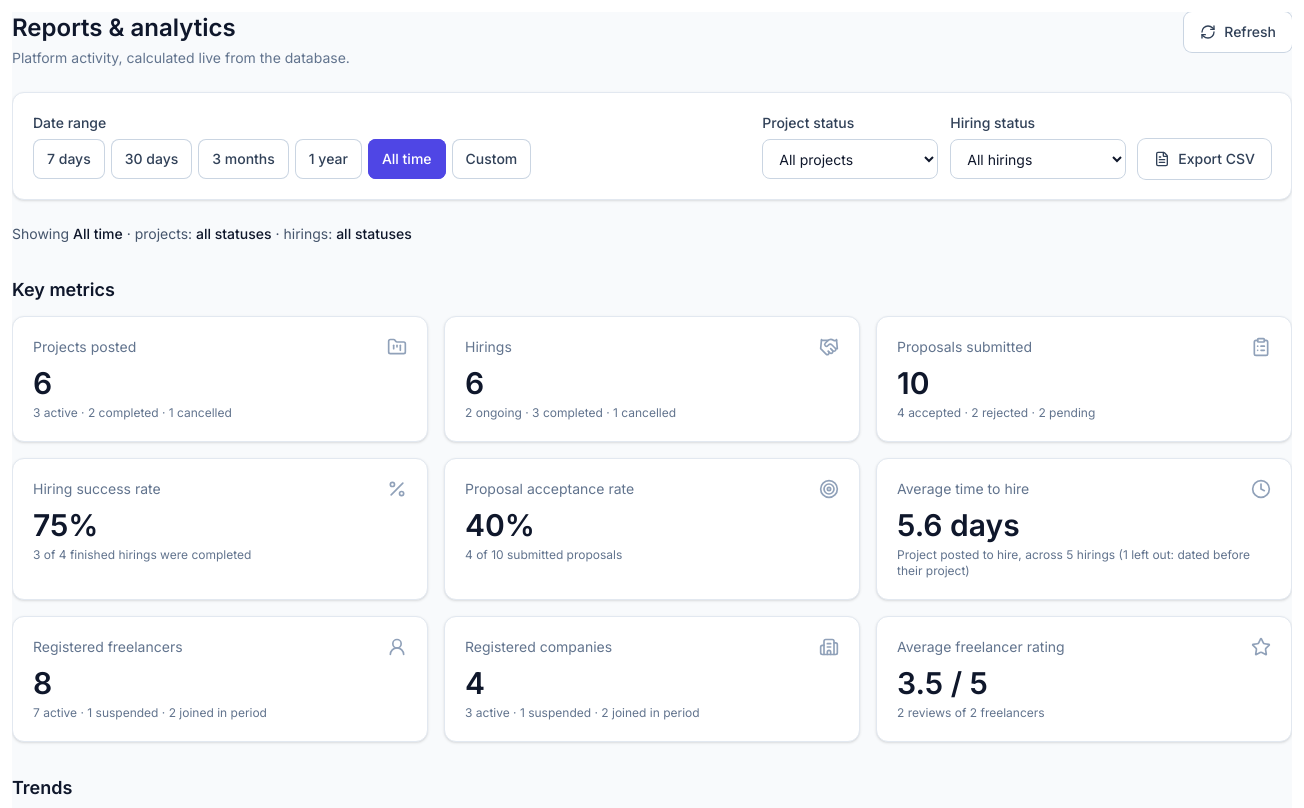
Test case: the page › the newest request failing is still reported even though older answers are ignored
Expected: the element with test id "applied-filters" is shown, [12,225,412,242]
Step 1. Click the button "7 days" → click(69, 159), box [33,139,105,179]
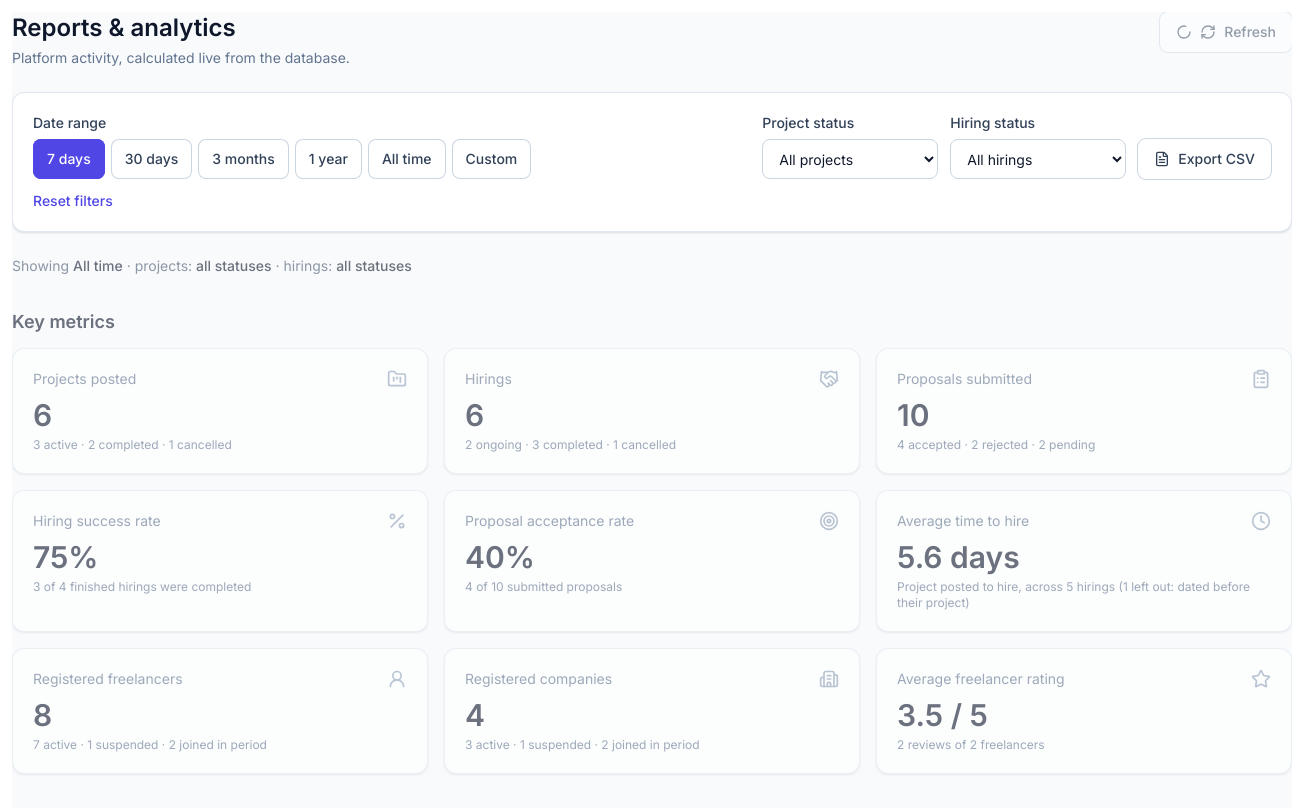
Step 2. Click the button "30 days" → click(151, 159), box [111,139,192,179]
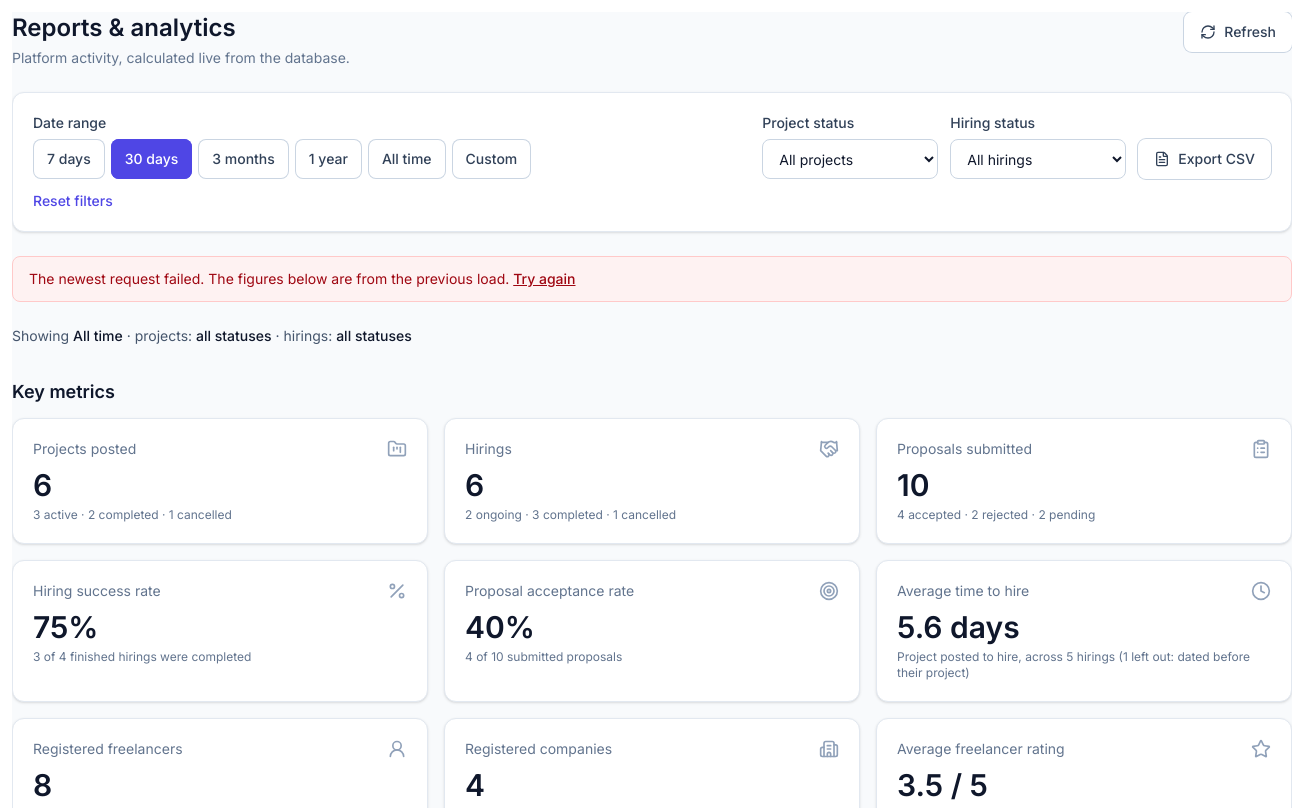
Expected: the element with test id "applied-filters" shows "All time", [73,327,123,344]
Expected: the message shows "The newest request failed.", [29,270,204,287]
